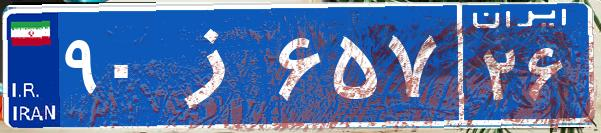0: (110, 28, 158, 105)
2: (475, 38, 525, 113)
5: (330, 28, 385, 110)
6: (273, 28, 330, 110), (525, 38, 570, 115)
7: (385, 28, 445, 110)
9: (57, 26, 110, 107)
ز: (158, 15, 273, 115)
